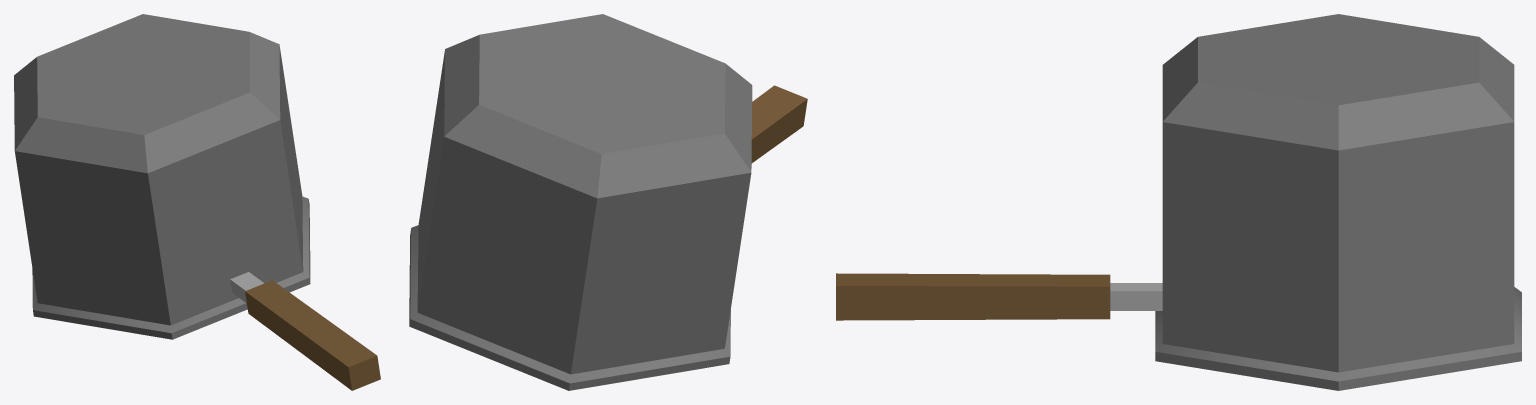
File: PotHelmet.fbx
3 renders of one model, left to right at view 1: azimuth 30°, elevation 25°; view 2: azimuth 150°, elevation 25°; view 3: azimuth 270°, elevation 25°, orthographic. The views are drawn at different scales.
Visible parts, largest first — view 1: PotHelmet; view 2: PotHelmet; view 3: PotHelmet.
Boxes of the visible parts, x1=… form: PotHelmet: x1=14, y1=14, x2=380, y2=390; PotHelmet: x1=409, y1=14, x2=807, y2=390; PotHelmet: x1=836, y1=14, x2=1521, y2=390.
Size of the model in its own units: 0.5501 by 0.4136 by 0.8432.
